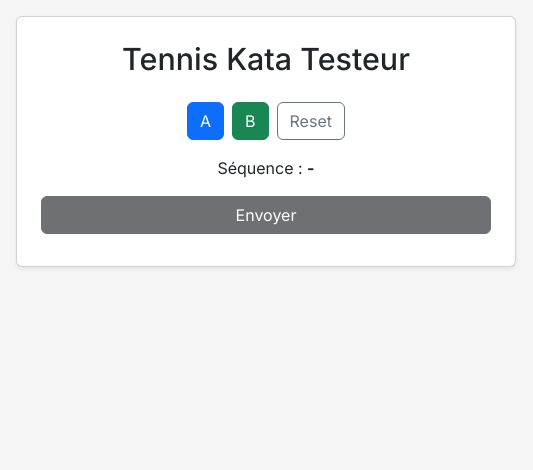
Test: TennisGameComponent › affiche le r��sultat retourné par le backend
What coordinates should you click on to do the following:
click the button "A"
I would click on:
 (206, 120)
Its box is [187, 102, 224, 140].
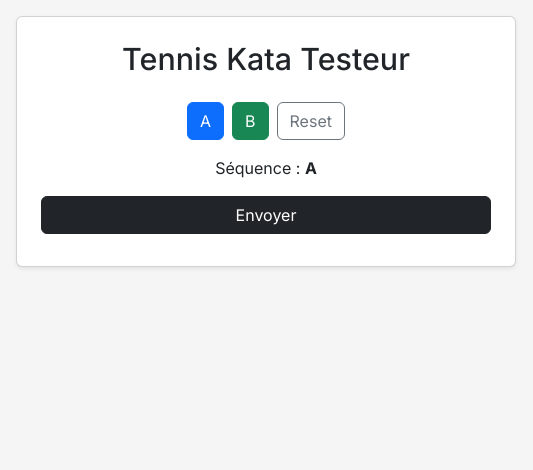
What coordinates should you click on to do the following:
click the button "B"
I would click on:
 (250, 120)
Its box is [232, 102, 269, 140].
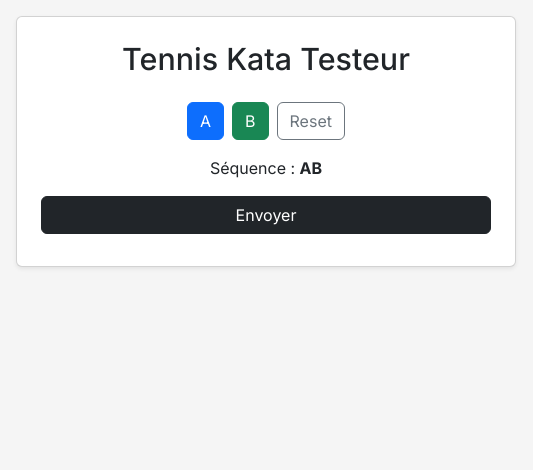
What coordinates should you click on to do the following:
click the button "Envoyer"
I would click on:
 (266, 214)
Its box is [41, 196, 491, 234].
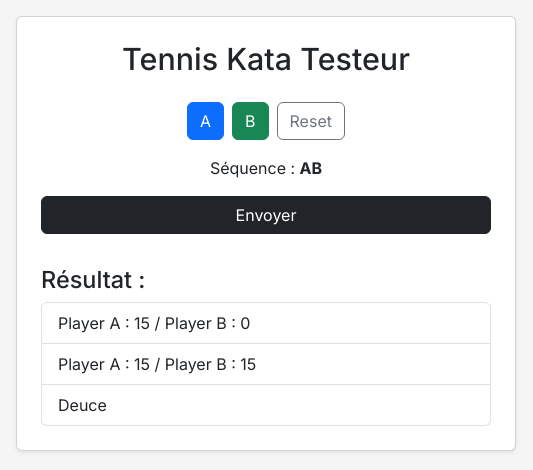
Now the heading "Résultat :" is shown, box [41, 264, 146, 294]
Now the list item "Player A : 15 / Player B : 0" is shown, box [41, 302, 491, 344]
Now the list item "Player A : 15 / Player B : 15" is shown, box [41, 344, 491, 385]
